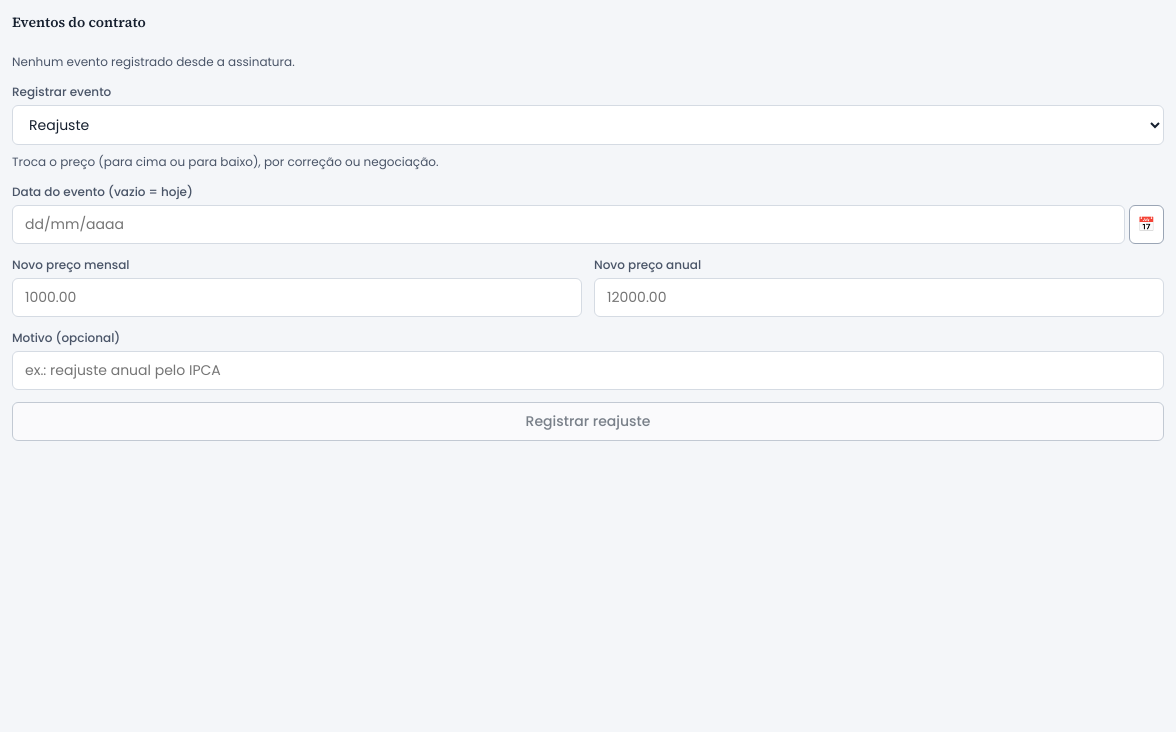
Test case: EventosDeContrato › encerramento exige a categoria do motivo antes de liberar
This screenshot has width=1176, height=732.
Select "Encerramento" in the dropdown labelled "Registrar evento": (588, 125) [12,105,1164,145]
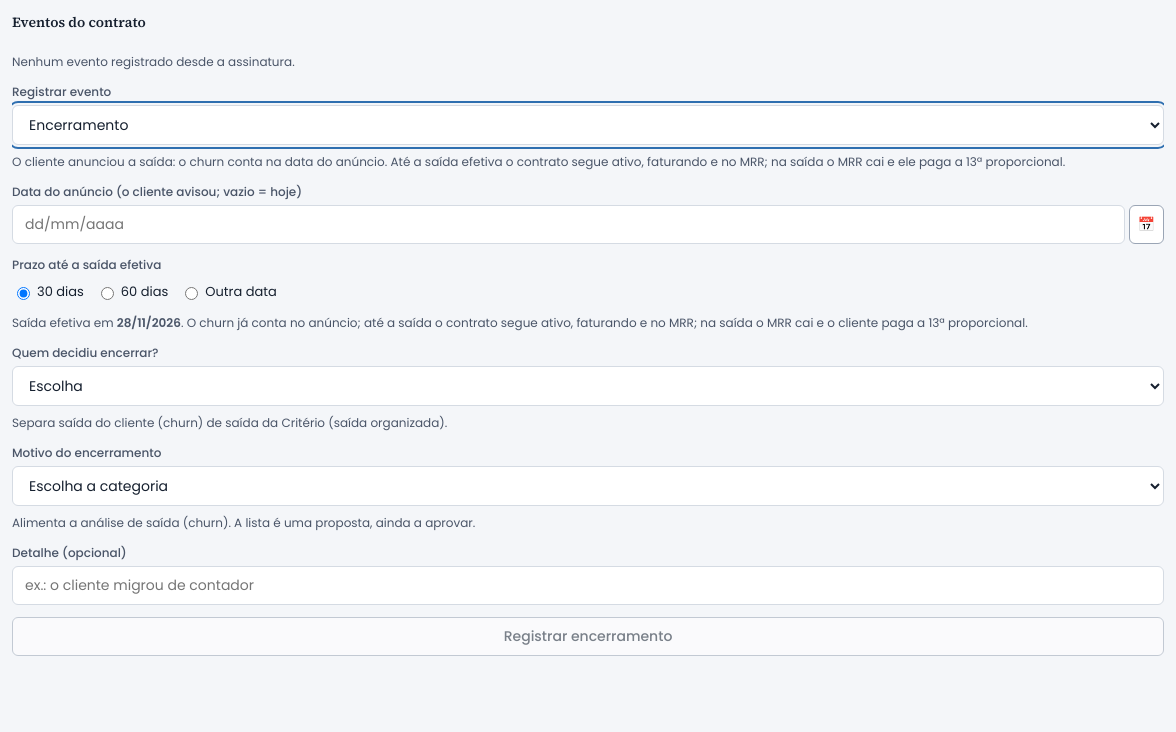
expect the button "Registrar encerramento" is disabled: met, box [12,616,1164,656]
Select "Preço" in the dropdown labelled "Motivo do encerramento": (588, 486) [12,466,1164,506]
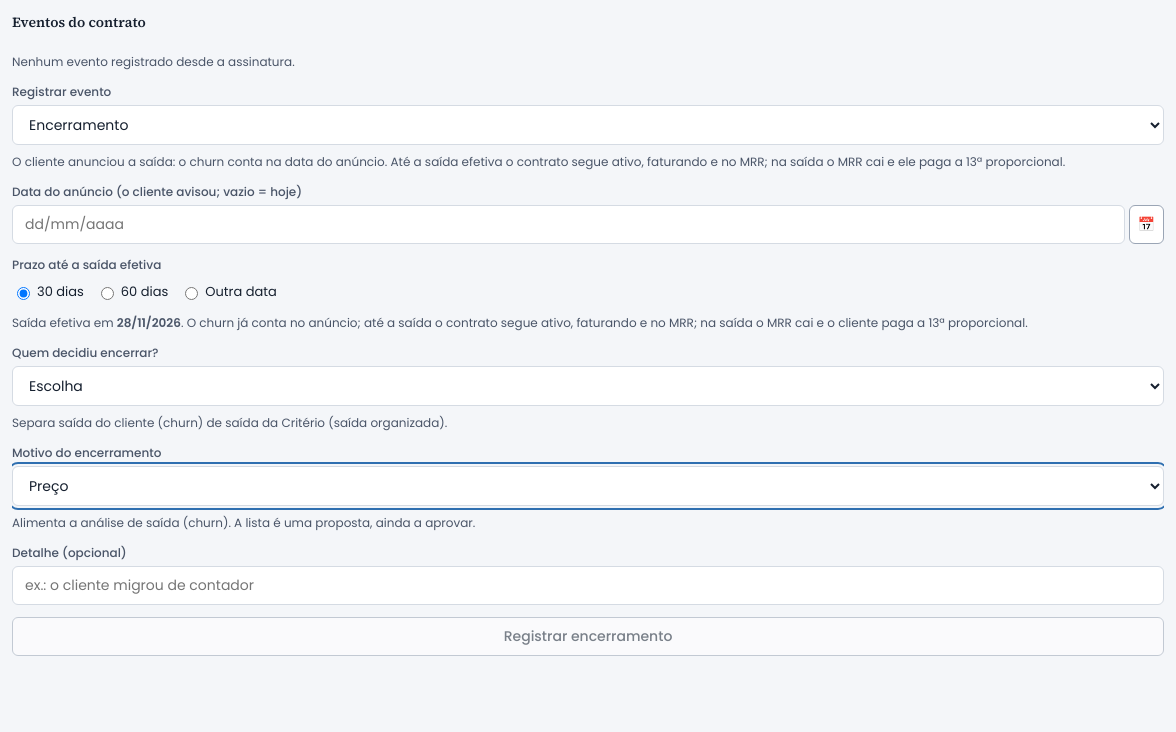
expect the button "Registrar encerramento" is disabled: met, box [12,616,1164,656]
Select "Critério" in the dropdown labelled "Quem decidiu encerrar?": (588, 386) [12,366,1164,406]
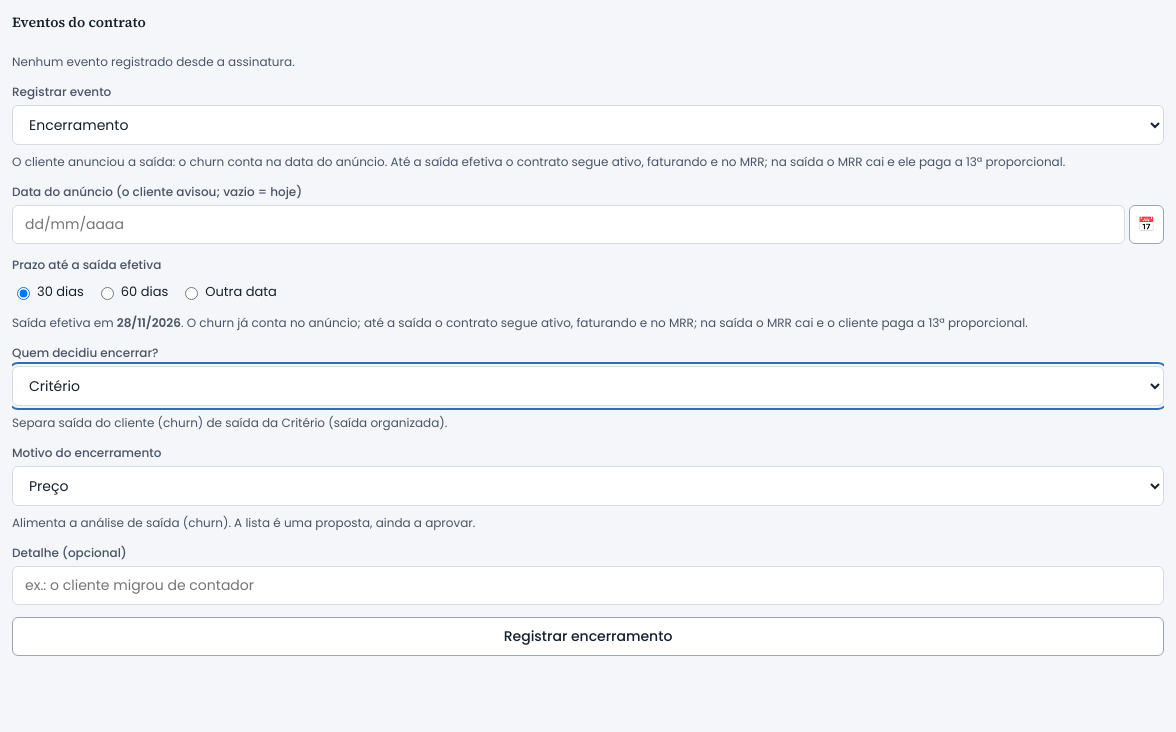
expect the button "Registrar encerramento" is enabled: met, box [12,616,1164,656]
